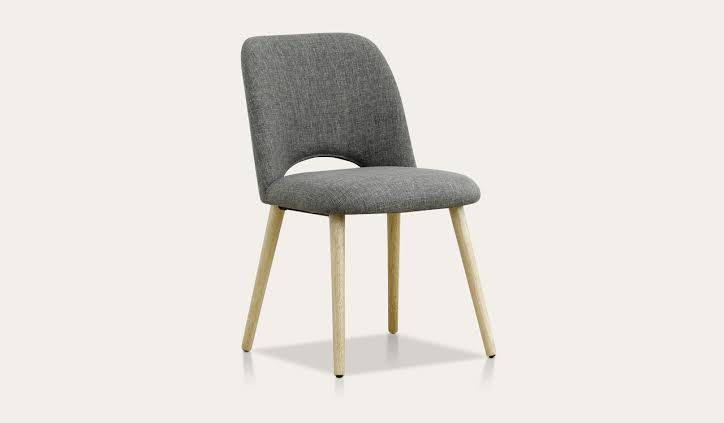chair: (232, 29, 510, 383)
